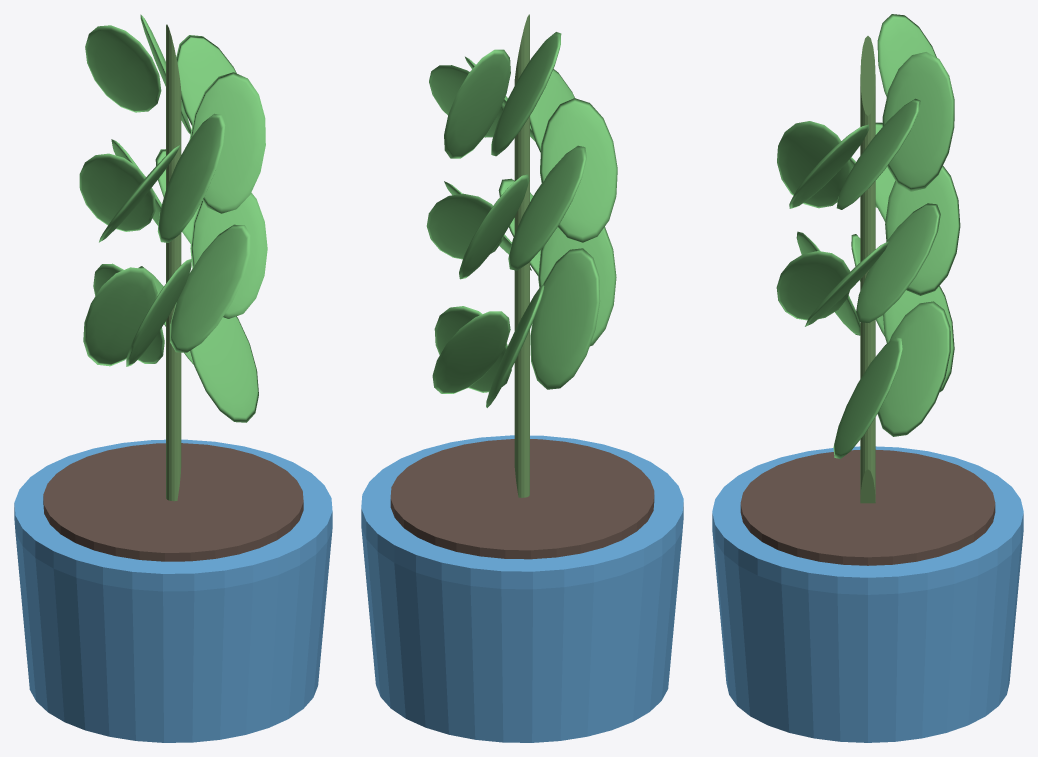
The picture shows the model from 3 angles, left to right: view 1: azimuth 30°, elevation 25°; view 2: azimuth 150°, elevation 25°; view 3: azimuth 270°, elevation 25°; orthographic projection. The views are drawn at different scales.
Visible parts, largest first — view 1: Pot_Complete, Leaves, Soil, Stem; view 2: Pot_Complete, Leaves, Soil, Stem; view 3: Pot_Complete, Leaves, Soil, Stem.
Part boxes in pixels (x1,y1,x2,y2): Pot_Complete: (14,439,332,742); Leaves: (79,14,267,422); Soil: (43,443,303,561); Stem: (166,24,181,501); Pot_Complete: (361,435,683,742); Leaves: (426,32,617,407); Soil: (390,439,654,559); Stem: (514,14,529,497); Pot_Complete: (712,446,1023,742); Leaves: (776,14,960,458); Soil: (740,450,995,565); Stem: (860,36,875,503).
Size of the model in its own units: 0.33 by 0.7538 by 0.33.
